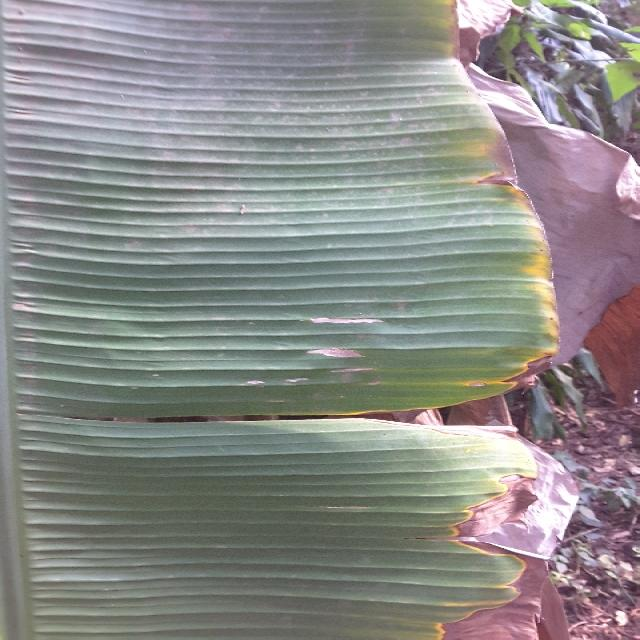Cordana: (292, 0, 574, 640)
